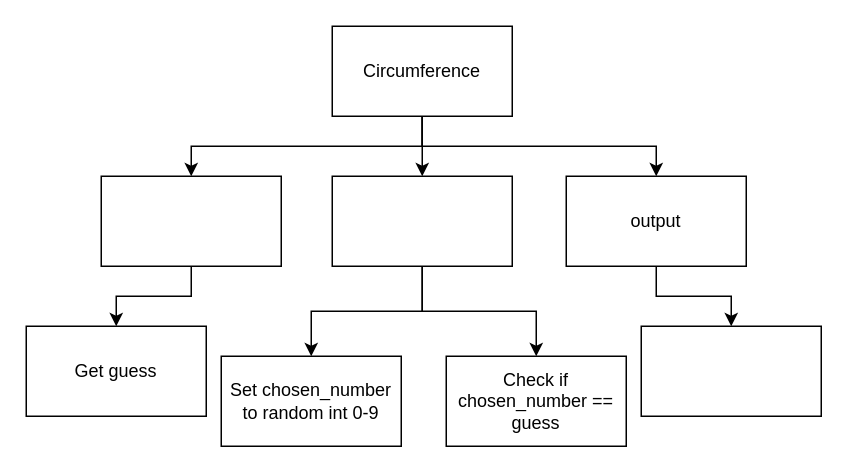
The diagram is 848 pixels wide and 473 high, and some of its shapes have lost their labels. The shapes that lost their labels are listed below. From the top down, each one's centre as x and y in pixels, then its label:
At (190,220): "Input".
At (421,220): "Process".
At (730,370): "Display answer".
